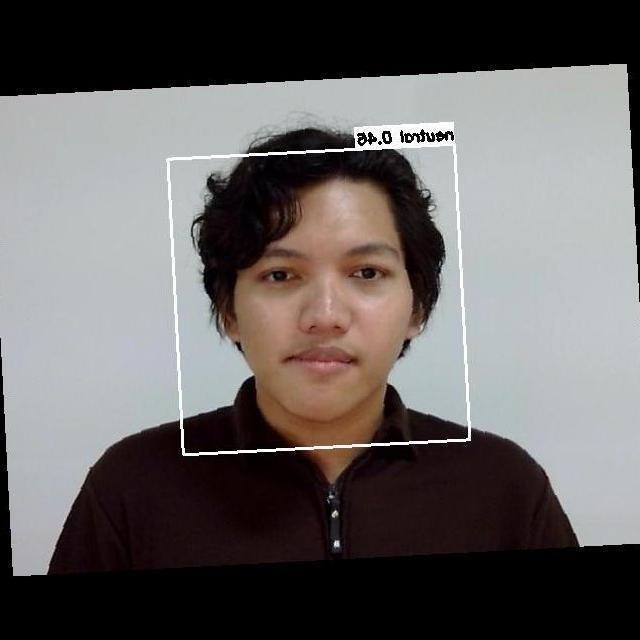Natural: (229, 221, 438, 397)
